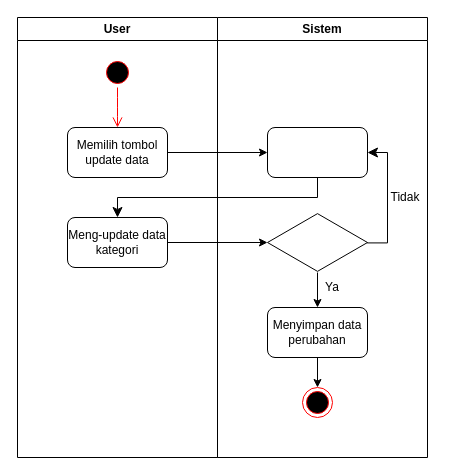
The diagram is 453 pixels wide and 475 high, and some of its shapes have lost their labels. The shapes that lost their labels are listed below. From the top down, each one's centre as x and y in pixels, then its label:
At (317,152): "Menampilkan halaman edit data".
At (317,242): "Validasi data".
